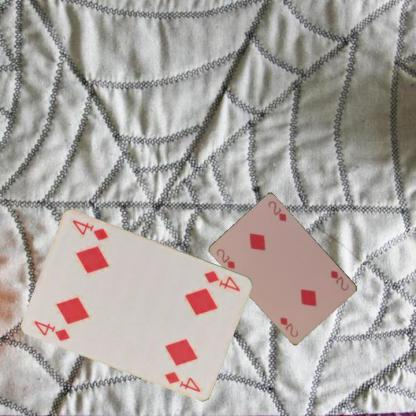2d: (328, 267, 350, 292), (214, 246, 236, 271)
4d: (31, 318, 72, 342), (202, 268, 242, 292)
